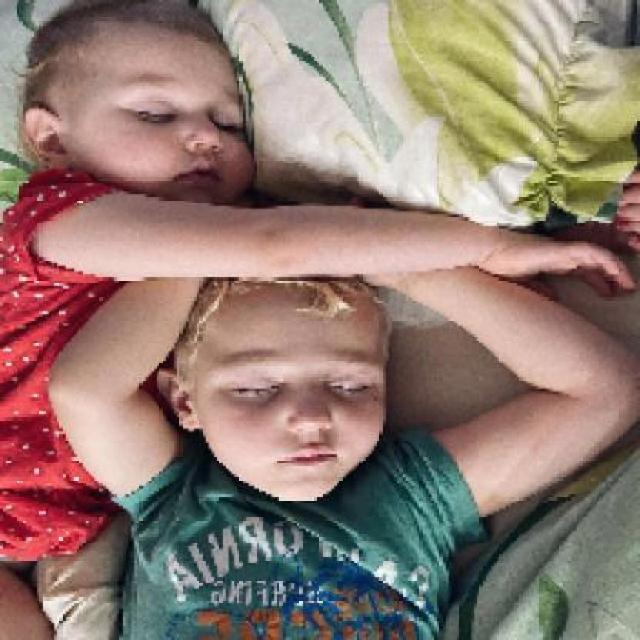child: (3, 5, 640, 638), (43, 274, 640, 637)
